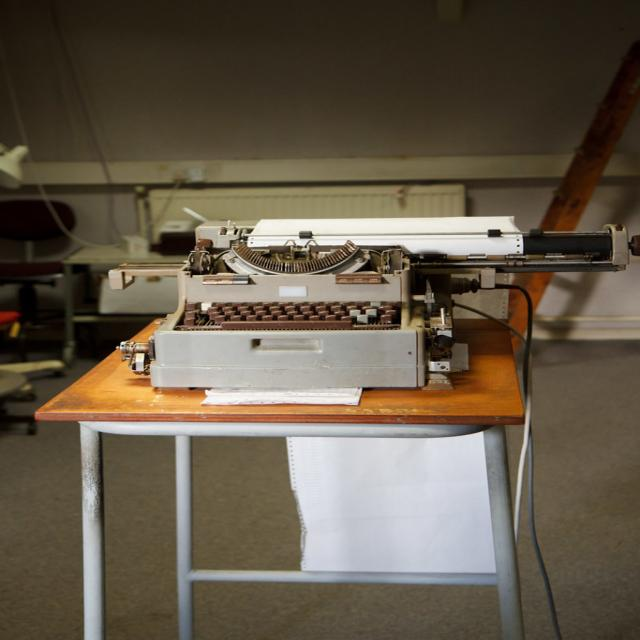desk: (67, 238, 640, 542)
